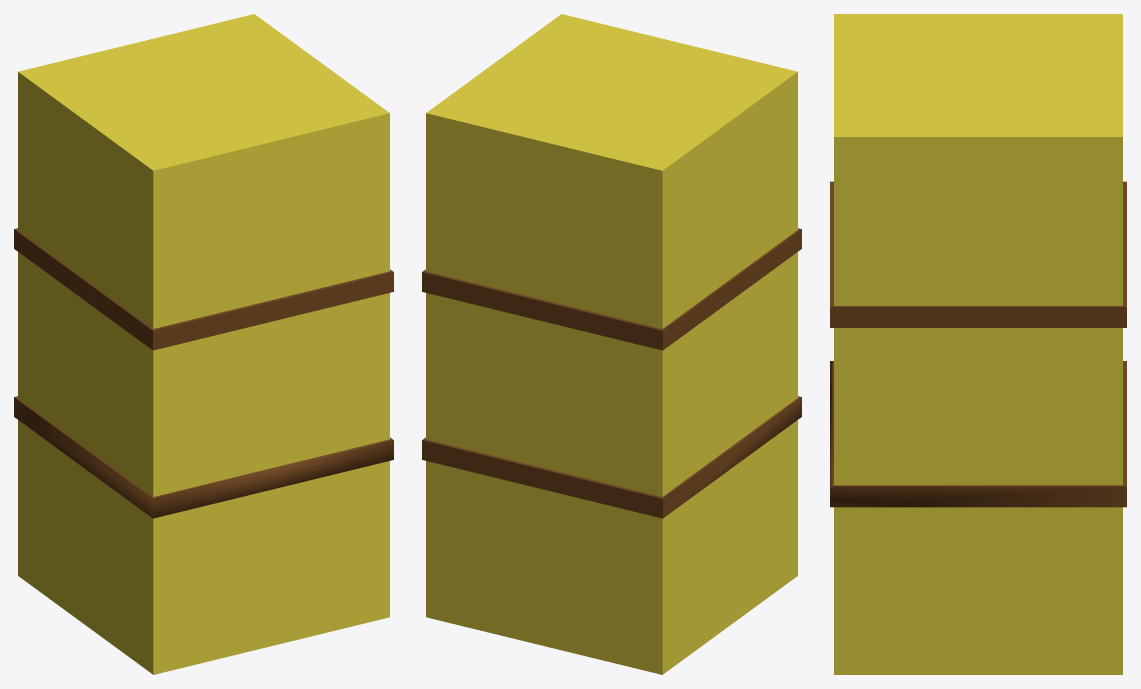
Rendered from Bale4.fbx.
3 views of the same model, side by side, from view 1: azimuth 30°, elevation 25°; view 2: azimuth 150°, elevation 25°; view 3: azimuth 270°, elevation 25° (orthographic). The views are drawn at different scales.
Parts seen in each view (by area): view 1: Cube.002; view 2: Cube.002; view 3: Cube.002.
Boxes of the visible parts, <box> form: Cube.002: <box>14,14,393,674</box>; Cube.002: <box>422,14,801,674</box>; Cube.002: <box>830,14,1126,674</box>.
Bounding box in the file's own units: 150 × 300 × 150.
